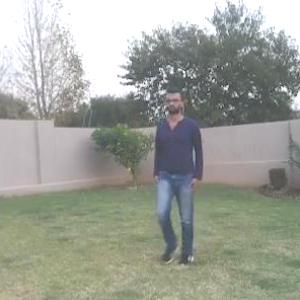follow: (154, 92, 202, 252)
